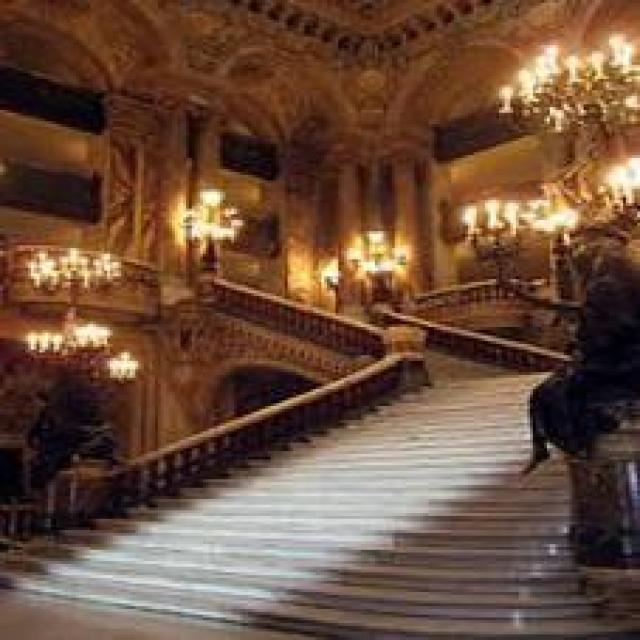upstair: (142, 455, 559, 627)
